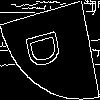D: (25, 25, 70, 71)
